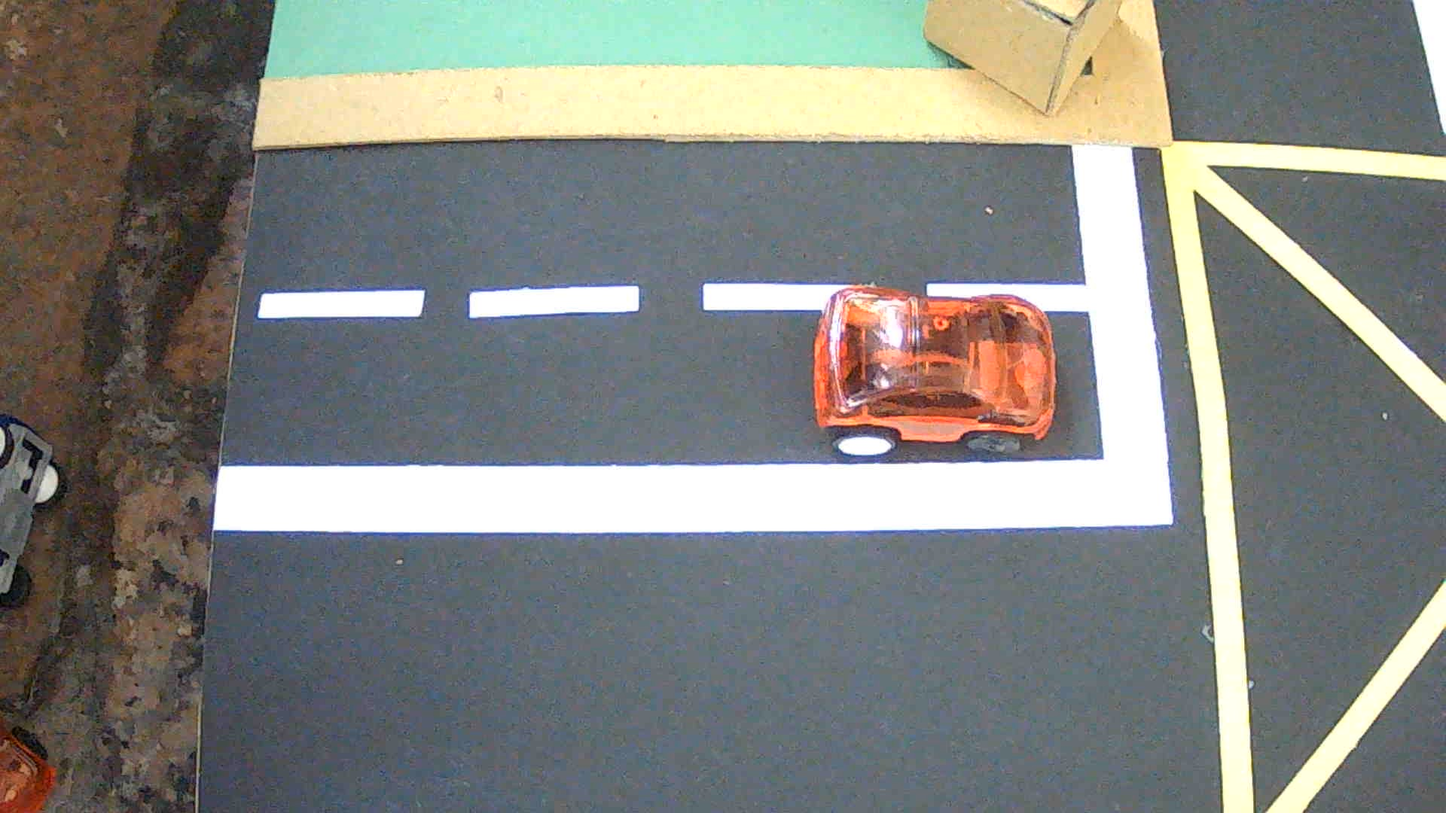Mobil merah: (813, 286, 1056, 456)
